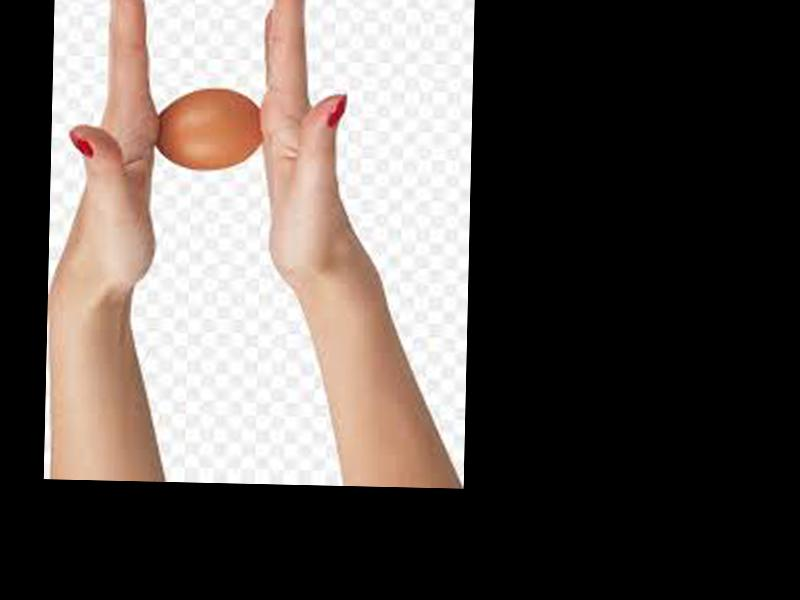Eggs: (156, 90, 263, 171)
